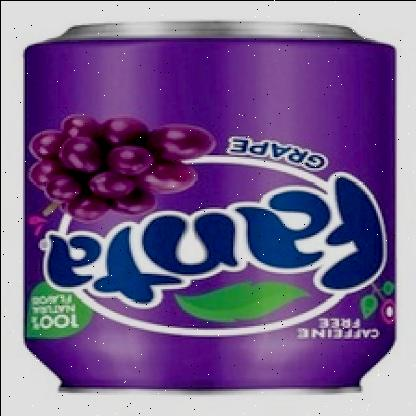Can: (19, 17, 399, 395)
